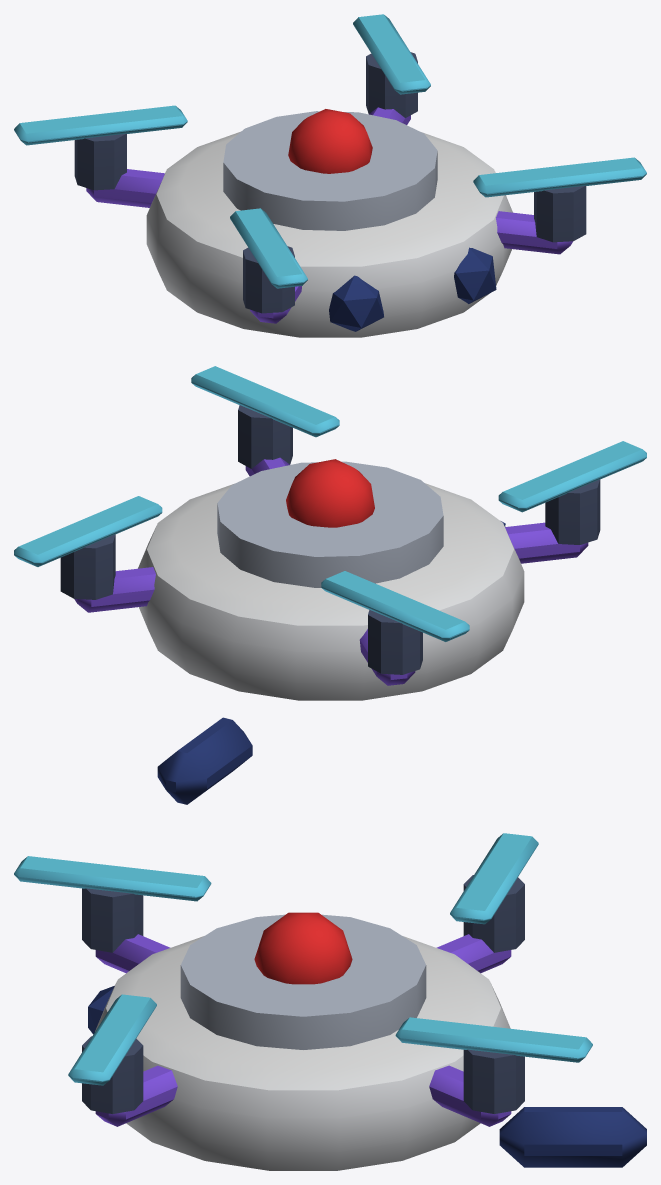
The model's file is w_a_drone.glb.
3 renders of one model, top to bottom at view 1: azimuth 30°, elevation 25°; view 2: azimuth 150°, elevation 25°; view 3: azimuth 270°, elevation 25°, orthographic. The views are drawn at different scales.
Parts seen in each view (by area): view 1: body; view 2: body; view 3: body.
Boxes of the visible parts, x1,y1,x2,y2 form: body: (14, 14, 646, 337); body: (14, 366, 646, 804); body: (14, 833, 646, 1170).
Bounding box in the file's own units: 0.236 × 0.1125 × 0.258.
